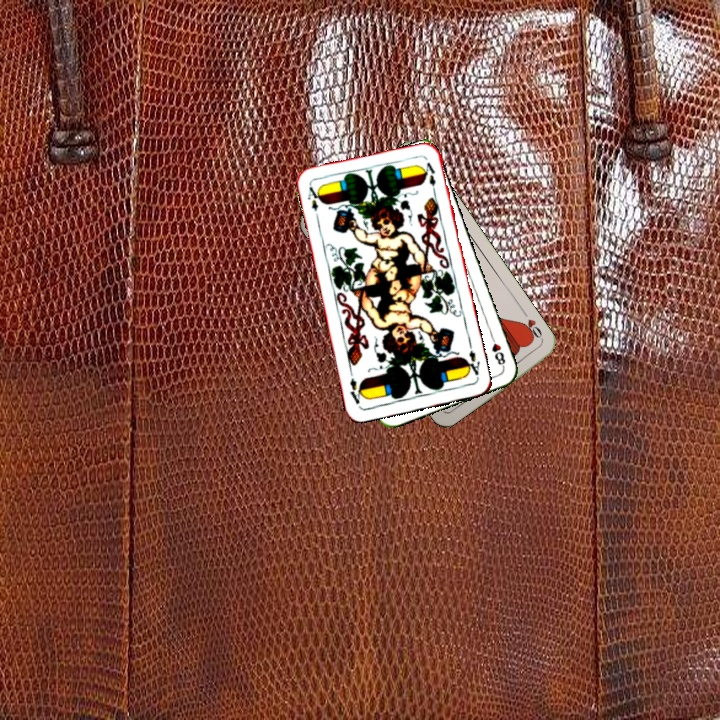EA: (461, 346, 482, 378), (303, 182, 324, 214)
H8: (486, 331, 508, 370)
HO: (517, 307, 546, 344)
